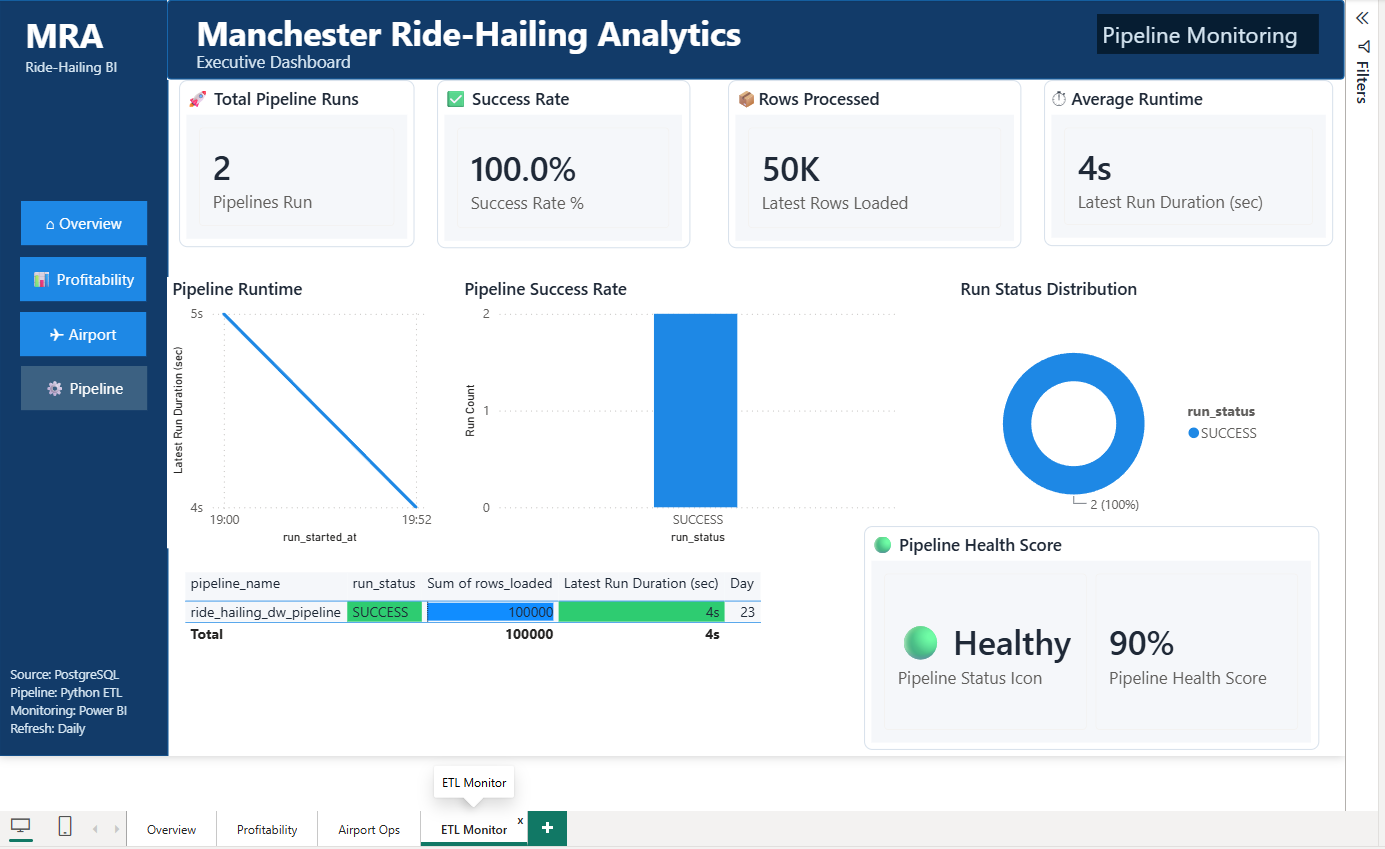

What the dashboard file says about the page in this screenshot:
{"tool":"powerbi","page":{"name":"ETL Monitor","canvas":[1280,720],"ordinal":3},"visuals":[{"type":"group","id":"g1","title":"Branding","box":[0,1.2,1280,719.5],"z":0},{"type":"shape","title":"Sidebar","box":[0,1.2,161.3,719.5],"z":0,"group":"g1"},{"type":"actionButton","title":"Button 4","box":[21.4,348.5,119.5,41.7],"z":0,"group":"g2"},{"type":"shape","title":"Header","box":[160.1,1.2,1119.9,75.6],"z":1000,"group":"g1"},{"type":"group","id":"g2","title":"Navigation","box":[20.3,191.7,120.7,198.5],"z":1000},{"type":"actionButton","title":"Button 1","box":[21.4,191.7,119.5,41.7],"z":1000,"group":"g2"},{"type":"textbox","title":"Logo","box":[20.3,6.8,110.5,54.1],"z":2000,"group":"g1"},{"type":"cardVisual","title":"🚀 Total Pipeline Runs","fields":{"Data":["public pipeline_audit.Run Count"]},"box":[171.2,76.9,224.5,158.8],"z":2000},{"type":"actionButton","title":"Button 2","box":[20.3,244.7,119.5,41.7],"z":2000,"group":"g2"},{"type":"textbox","title":"Logo Subtitle","box":[20.3,50.8,110.5,50.7],"z":3000,"group":"g1"},{"type":"cardVisual","title":"✅ Success Rate","fields":{"Data":["public pipeline_audit.Success Rate %"]},"box":[416.7,76.9,240.6,160],"z":3000},{"type":"actionButton","title":"Button 3","box":[20.3,297.7,119.5,41.7],"z":3000,"group":"g2"},{"type":"textbox","title":"Header Title","box":[182.7,4.6,709.4,56.4],"z":4000,"group":"g1"},{"type":"cardVisual","title":"⏱ Average Runtime","fields":{"Data":["public pipeline_audit.Latest Run Duration (sec)"]},"box":[993.5,76.9,275.3,157.5],"z":4000},{"type":"textbox","title":"Header Subtitle","box":[182.7,44.1,283.1,32.7],"z":5000,"group":"g1"},{"type":"cardVisual","title":"📦Rows Processed","fields":{"Data":["public pipeline_audit.Latest Rows Loaded"]},"box":[693.3,76.9,279.1,160],"z":5000},{"type":"lineChart","title":"Pipeline Runtime","fields":{"Category":["public pipeline_audit.run_started_at"],"Y":["public pipeline_audit.Latest Run Duration (sec)"]},"box":[160,265.1,256.7,258],"z":6000,"group":"g1"},{"type":"cardVisual","title":"🟢 Pipeline Health Score","fields":{"Data":["_Measure.Pipeline Status Icon","_Measure.Pipeline Health Score"]},"box":[822.3,501.1,432.9,213.3],"z":6000},{"type":"clusteredColumnChart","title":"Pipeline Success Rate","fields":{"Category":["public pipeline_audit.run_status"],"Y":["public pipeline_audit.Run Count"]},"box":[437.8,265.1,420.5,258],"z":7000,"group":"g1"},{"type":"tableEx","fields":{"Values":["public pipeline_audit.pipeline_name","public pipeline_audit.run_status","Sum(public pipeline_audit.rows_loaded)","public pipeline_audit.Latest Run Duration (sec)","public pipeline_audit.run_started_at.Variation.Date Hierarchy.Day"]},"box":[171.2,540.4,614,134],"z":8000,"group":"g1"},{"type":"donutChart","title":"Run Status Distribution","fields":{"Category":["public pipeline_audit.run_status"],"Y":["public pipeline_audit.Run Count"]},"box":[909.1,265.1,308.8,258],"z":9000,"group":"g1"},{"type":"textbox","box":[1044.3,14.7,210.9,38.3],"z":11000,"group":"g1"},{"type":"textbox","box":[5.6,628.2,150,92.5],"z":12000,"group":"g1"}]}

Visuals, with their boxes on the page's 1280x720 design canvas (x1, y1, x2, y2). These are canvas units, not pixel positions in the 1385x849 screenshot, which may show the page scaled, cropped or inside an application window:
"Branding" group: bbox=[0, 1, 1280, 721]
"Sidebar" shape: bbox=[0, 1, 161, 721]
"Button 4" actionButton: bbox=[21, 348, 141, 390]
"Header" shape: bbox=[160, 1, 1280, 77]
"Navigation" group: bbox=[20, 192, 141, 390]
"Button 1" actionButton: bbox=[21, 192, 141, 233]
"Logo" textbox: bbox=[20, 7, 131, 61]
"🚀 Total Pipeline Runs" cardVisual: bbox=[171, 77, 396, 236]
"Button 2" actionButton: bbox=[20, 245, 140, 286]
"Logo Subtitle" textbox: bbox=[20, 51, 131, 102]
"✅ Success Rate" cardVisual: bbox=[417, 77, 657, 237]
"Button 3" actionButton: bbox=[20, 298, 140, 339]
"Header Title" textbox: bbox=[183, 5, 892, 61]
"⏱ Average Runtime" cardVisual: bbox=[994, 77, 1269, 234]
"Header Subtitle" textbox: bbox=[183, 44, 466, 77]
"📦Rows Processed" cardVisual: bbox=[693, 77, 972, 237]
"Pipeline Runtime" lineChart: bbox=[160, 265, 417, 523]
"🟢 Pipeline Health Score" cardVisual: bbox=[822, 501, 1255, 714]
"Pipeline Success Rate" clusteredColumnChart: bbox=[438, 265, 858, 523]
tableEx - public pipeline_audit.pipeline_name x public pipeline_audit.run_status: bbox=[171, 540, 785, 674]
"Run Status Distribution" donutChart: bbox=[909, 265, 1218, 523]
textbox: bbox=[1044, 15, 1255, 53]
textbox: bbox=[6, 628, 156, 721]
